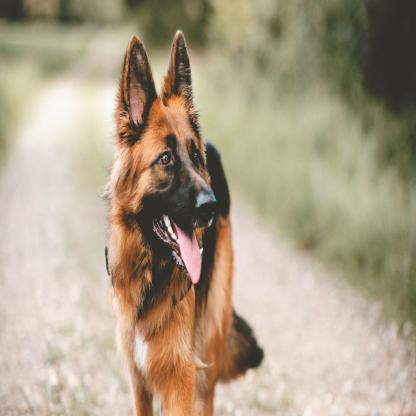dog: (100, 31, 259, 416)
